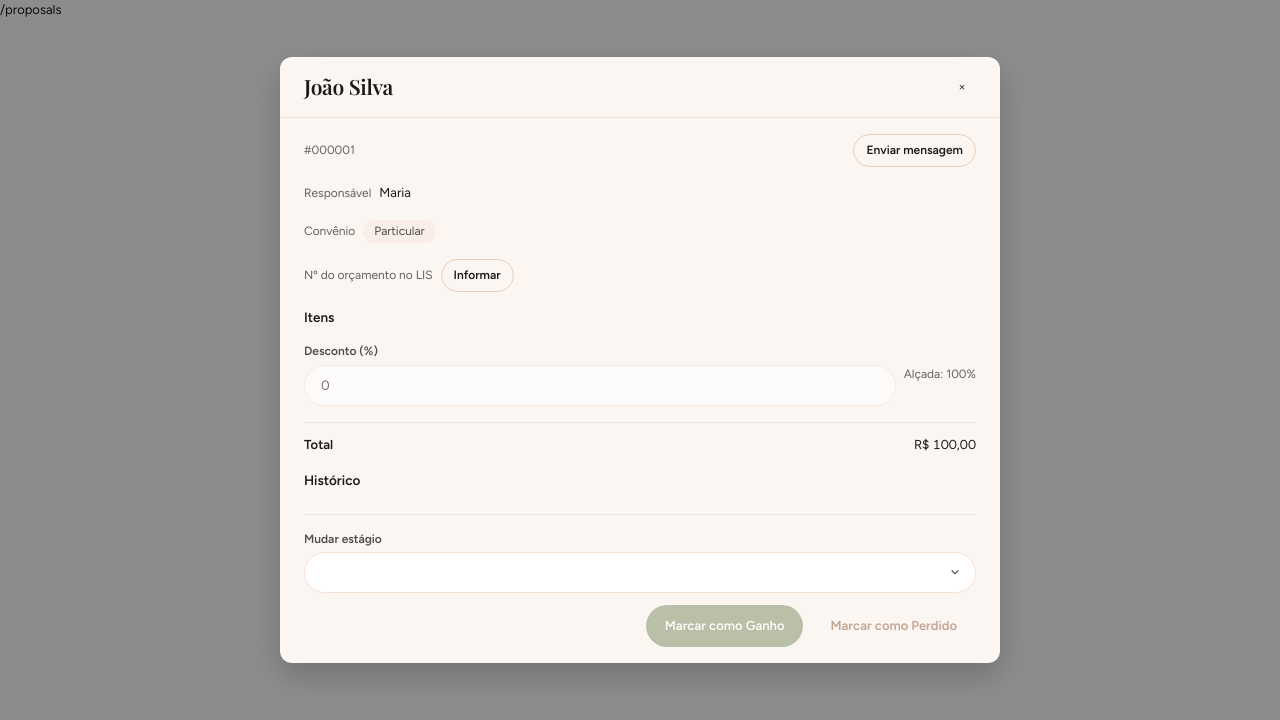
it: ProposalModal › Enviar mensagem › com conversa: fecha o modal e abre a conversa no Atendimento, sem rascunho e sem mudar o estágio
Click the button "Enviar mensagem" at (915, 151), box x1=854 y1=134 x2=976 y2=167
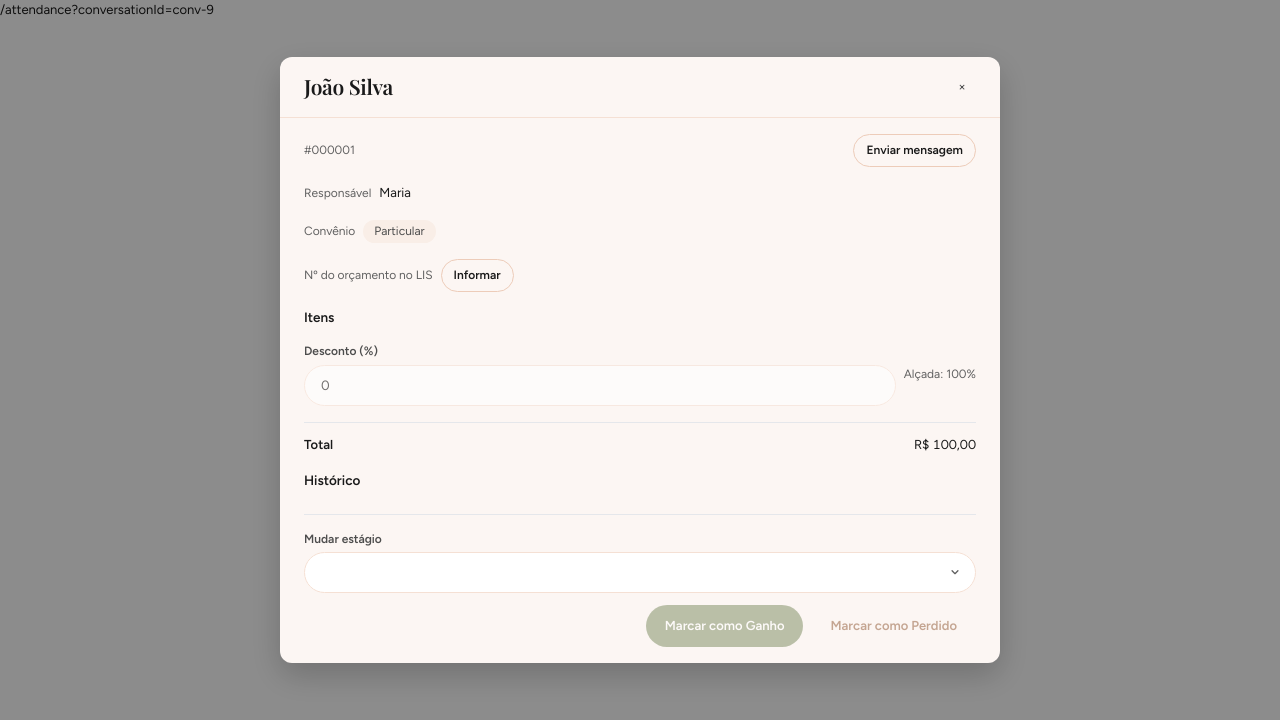
Expected: the text with test id "location" does not show "draft", x1=0 y1=2 x2=214 y2=17
Now the text with test id "location" reads "/attendance?conversationId=conv-9", box x1=0 y1=2 x2=214 y2=17
